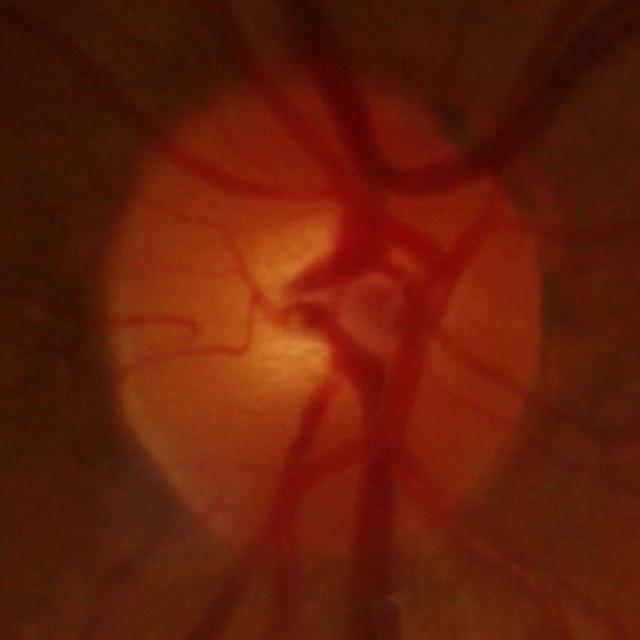OC: (224, 221, 365, 381)
OD: (106, 67, 542, 558)
